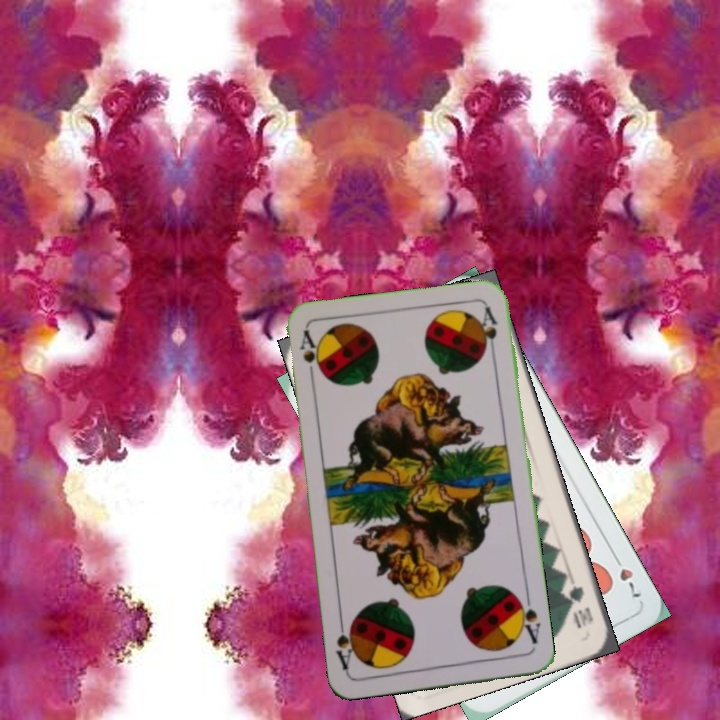G10: (564, 582, 596, 631)
H7: (608, 549, 644, 603)
SA: (512, 591, 543, 646), (296, 326, 324, 385)
